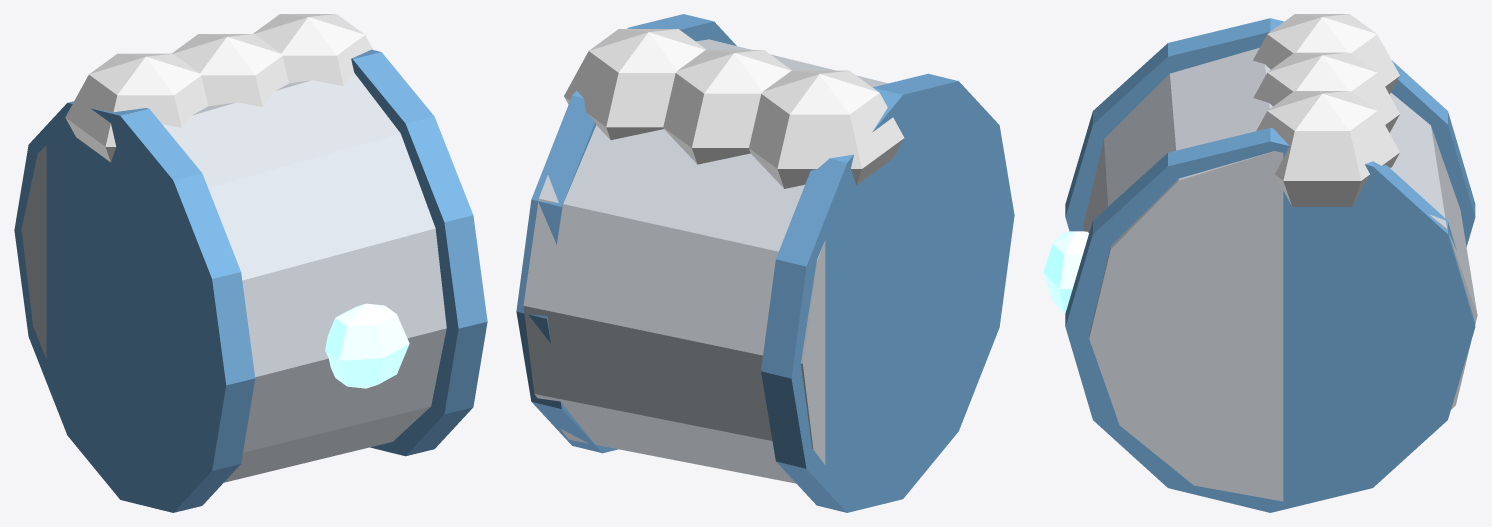
Rendered from hauvar_bracer_r.glb.
3 views of the same model, side by side, from view 1: azimuth 30°, elevation 25°; view 2: azimuth 150°, elevation 25°; view 3: azimuth 270°, elevation 25° (orthographic). The views are drawn at different scales.
Parts seen in each view (by area): view 1: hauvar_bracer_r; view 2: hauvar_bracer_r; view 3: hauvar_bracer_r.
Boxes of the visible parts, bbox=[...] form: hauvar_bracer_r: bbox=[14, 14, 487, 512]; hauvar_bracer_r: bbox=[516, 14, 1014, 512]; hauvar_bracer_r: bbox=[1043, 14, 1477, 512].
Bounding box in the file's own units: 0.2439 × 0.338 × 0.3347.
